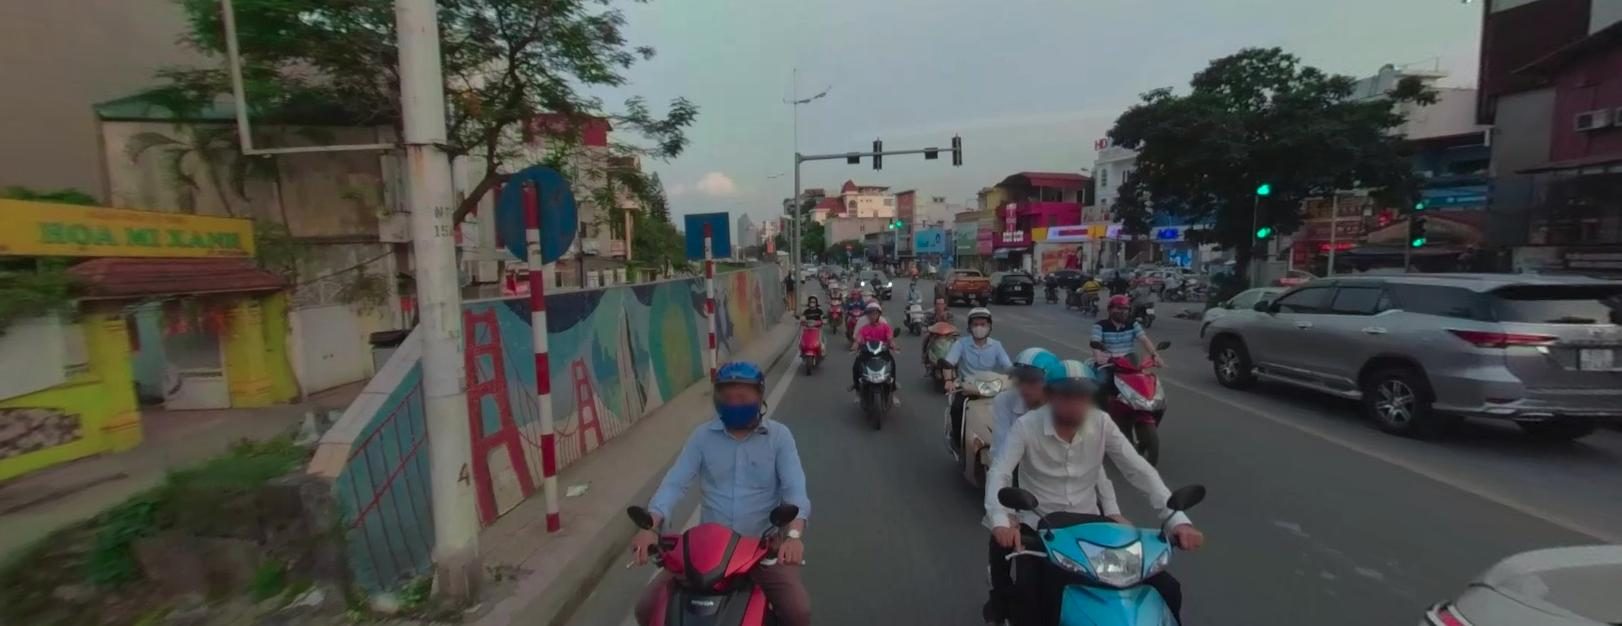Cam nguoc chieu: (843, 241, 852, 248)
Hieu lenh: (844, 247, 853, 255)
